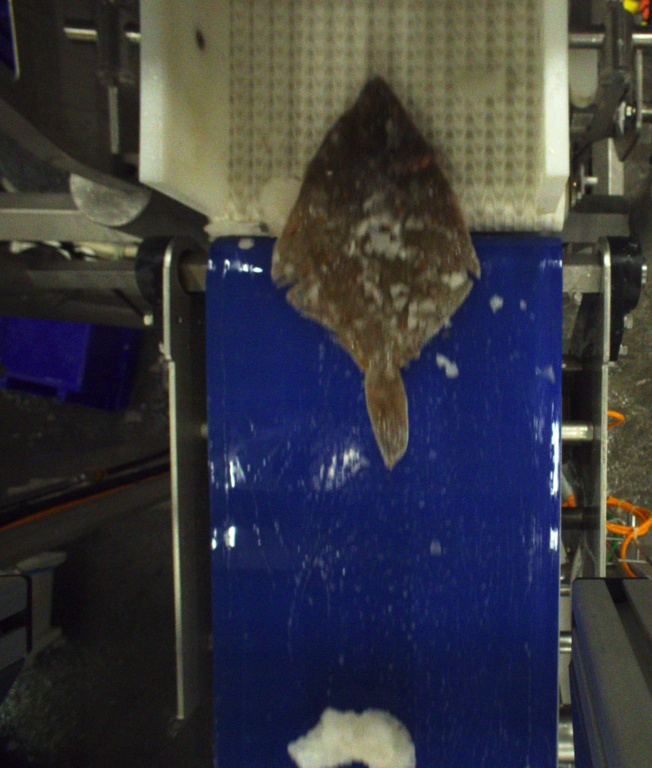PLE: (269, 74, 484, 467)
